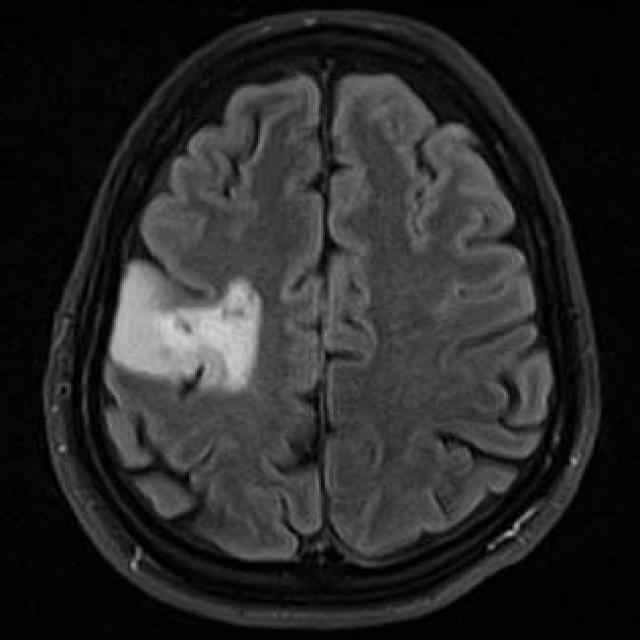Tumor-Cell: (100, 257, 298, 415)
